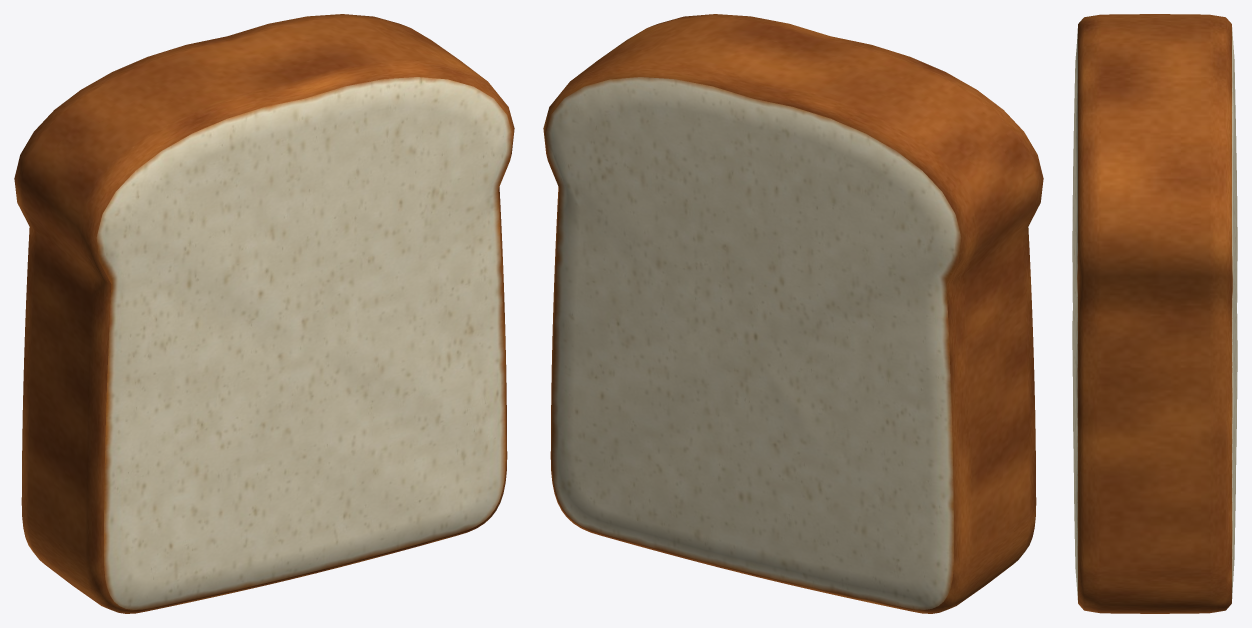
Rendered from shokupan.glb.
3 views of the same model, side by side, from view 1: azimuth 30°, elevation 25°; view 2: azimuth 150°, elevation 25°; view 3: azimuth 270°, elevation 25° (orthographic). The views are drawn at different scales.
Visible parts, largest first — view 1: shokupan; view 2: shokupan; view 3: shokupan.
Part boxes in pixels (x1=…): shokupan: x1=14, y1=14, x2=514, y2=613; shokupan: x1=543, y1=14, x2=1043, y2=613; shokupan: x1=1072, y1=14, x2=1237, y2=613.
Size of the model in its own units: 1.1 by 1.21 by 0.3825.
1 material, 1 textured.
